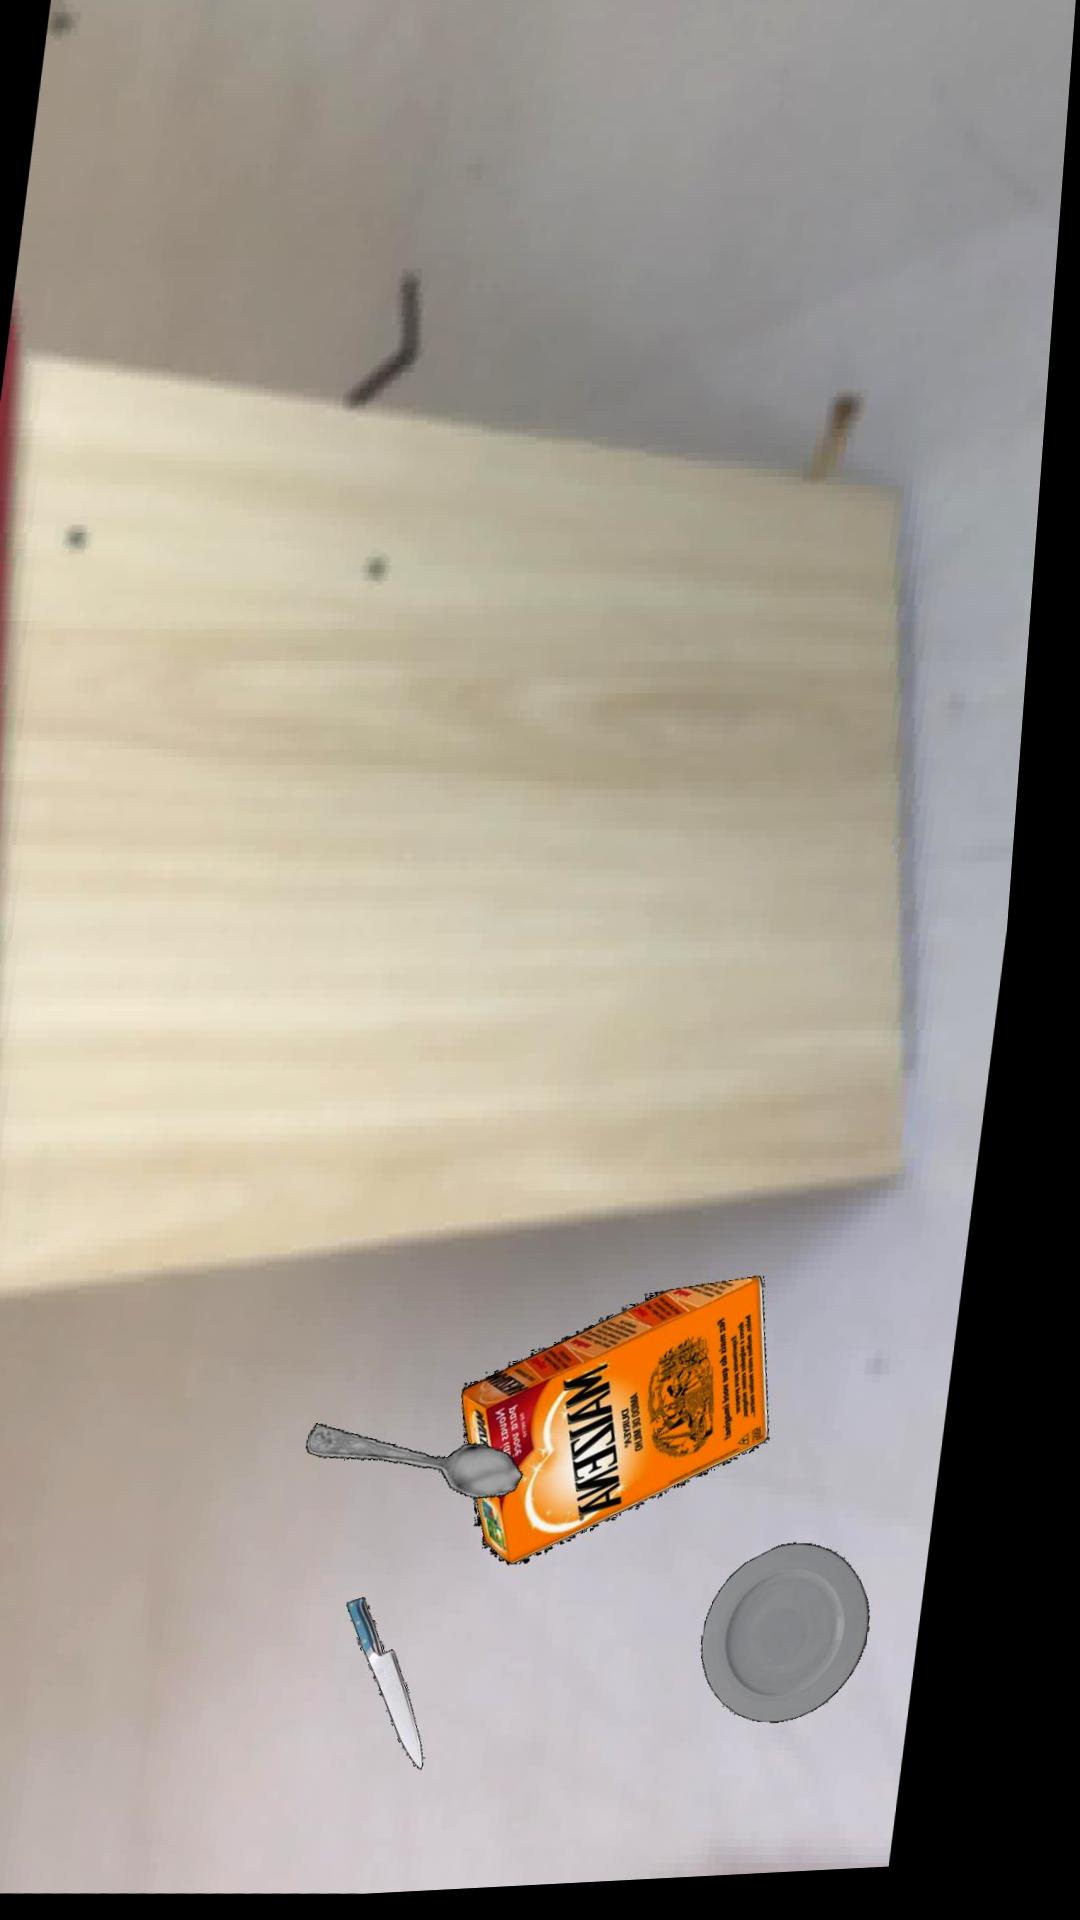knife: (373, 1602, 451, 1776)
plate: (728, 1552, 895, 1733)
spoon: (330, 1428, 547, 1505)
